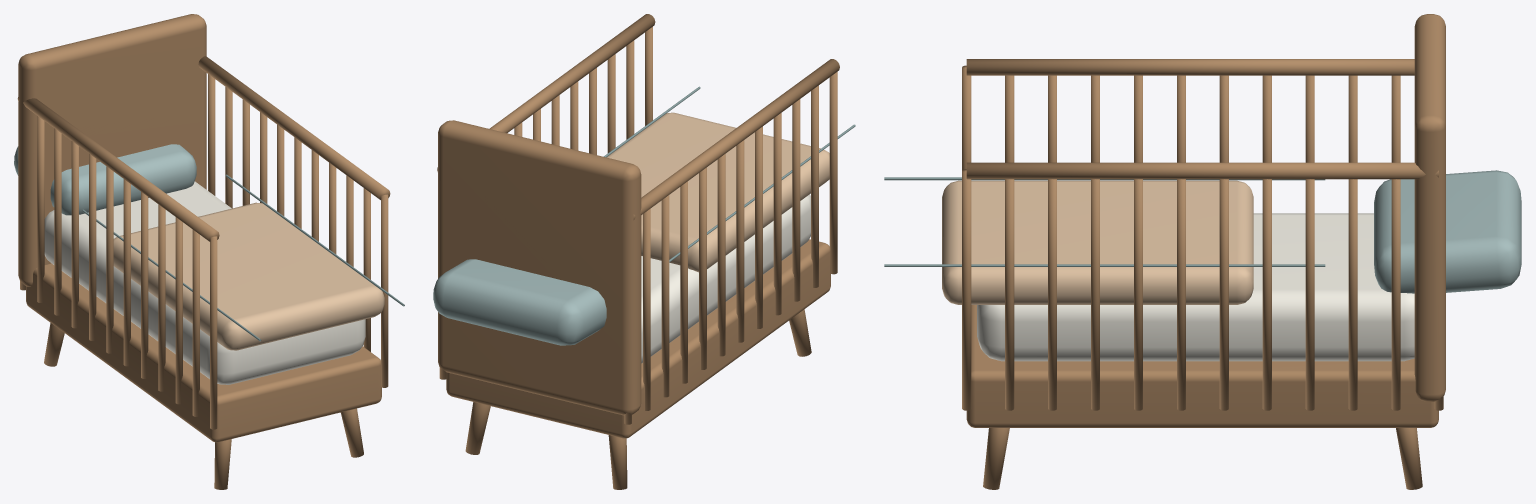
Rendered from atelier-crib.glb.
3 views of the same model, side by side, from view 1: azimuth 30°, elevation 25°; view 2: azimuth 150°, elevation 25°; view 3: azimuth 270°, elevation 25° (orthographic). The views are drawn at different scales.
Visible parts, largest first — view 1: legs.031, bedding.008, ceramic.008, fabric.034, seams.033; view 2: legs.031, bedding.008, fabric.034, ceramic.008, seams.033; view 3: legs.031, bedding.008, ceramic.008, fabric.034, seams.033.
Part boxes in pixels (x1,y1,x2,y2): legs.031: (17, 14, 390, 489); bedding.008: (113, 202, 384, 350); ceramic.008: (44, 181, 365, 384); fabric.034: (14, 144, 196, 215); seams.033: (82, 174, 404, 341); legs.031: (437, 14, 839, 489); bedding.008: (606, 112, 829, 272); fabric.034: (433, 259, 606, 345); ceramic.008: (641, 194, 810, 363); seams.033: (603, 86, 855, 262); legs.031: (962, 14, 1445, 489); bedding.008: (942, 180, 1253, 304); ceramic.008: (977, 213, 1414, 361); fabric.034: (1374, 170, 1521, 293); seams.033: (884, 177, 1325, 266).
Bounding box in the file's own units: 0.75 × 1.2 × 1.82.
